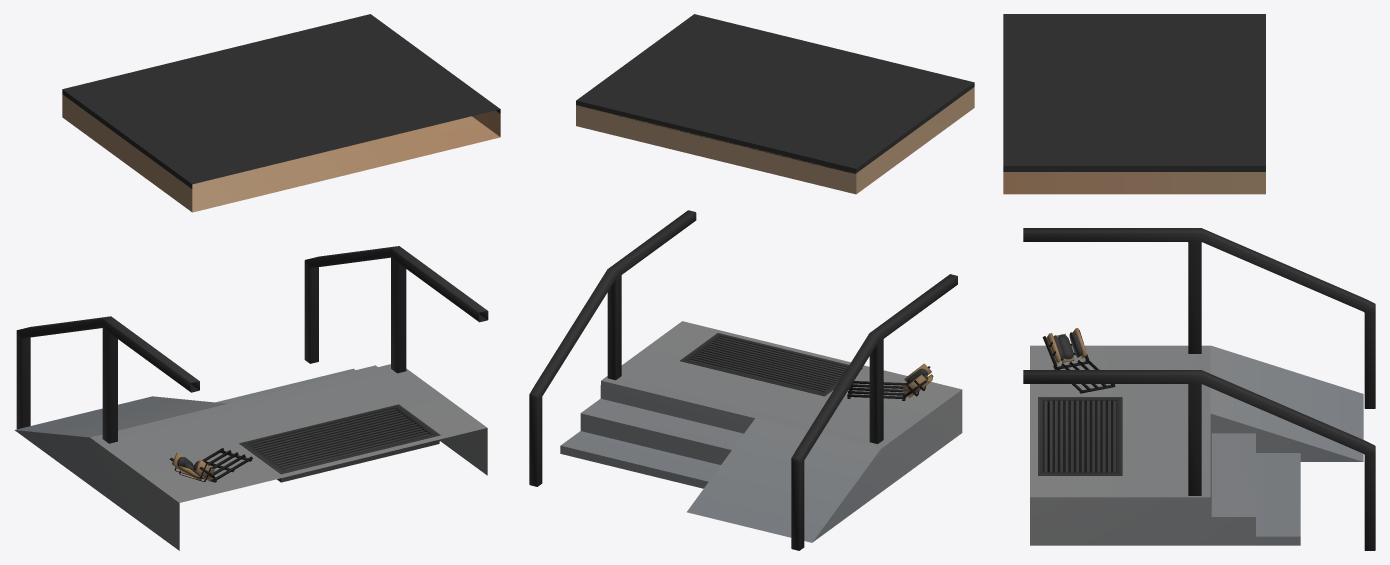
The model's file is New entrance.fbx.
3 views of the same model, side by side, from view 1: azimuth 30°, elevation 25°; view 2: azimuth 150°, elevation 25°; view 3: azimuth 270°, elevation 25° (orthographic). The views are drawn at different scales.
Visible parts, largest first — view 1: New Podiezd Osnova; view 2: New Podiezd Osnova; view 3: New Podiezd Osnova.
Part boxes in pixels (x1,y1,x2,y2): New Podiezd Osnova: (14,14,500,550); New Podiezd Osnova: (529,14,974,550); New Podiezd Osnova: (1003,14,1375,550).
Bounding box in the file's own units: 655 × 778 × 678.
